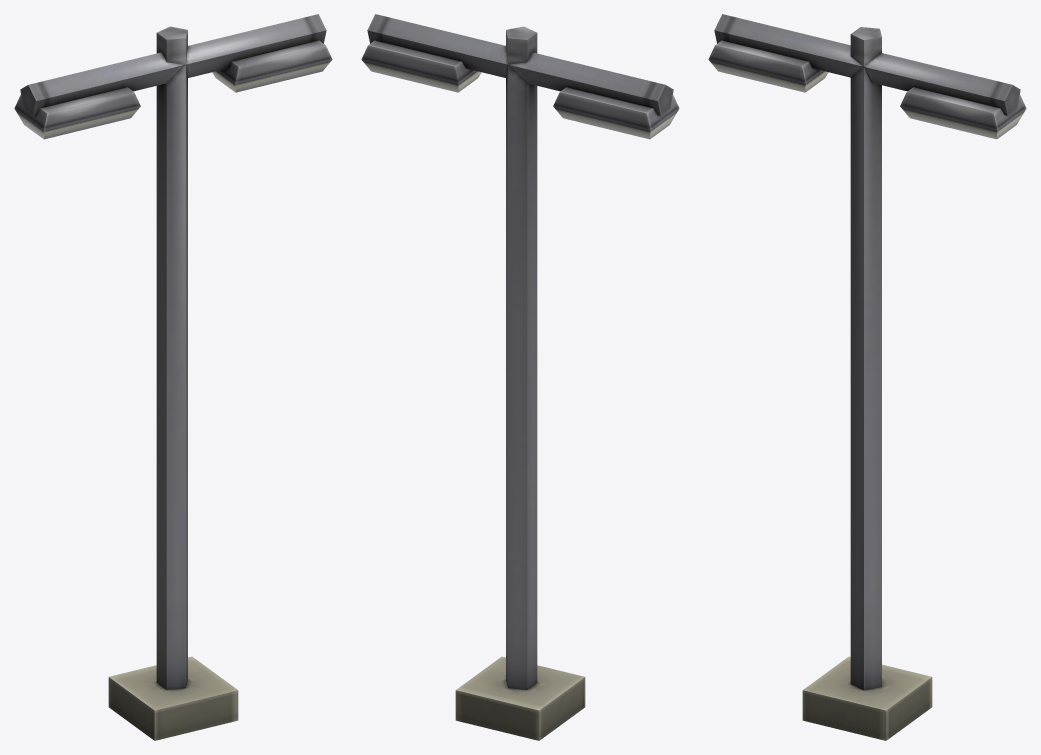
Rendered from LightingPole.FBX.
The picture shows the model from 3 angles, left to right: view 1: azimuth 30°, elevation 25°; view 2: azimuth 150°, elevation 25°; view 3: azimuth 330°, elevation 25°; orthographic projection.
Visible parts, largest first — view 1: Verlichtingspaal; view 2: Verlichtingspaal; view 3: Verlichtingspaal.
Boxes of the visible parts, left/top/right/bottom form: Verlichtingspaal: left=14, top=14, right=332, bottom=740; Verlichtingspaal: left=361, top=14, right=679, bottom=740; Verlichtingspaal: left=708, top=14, right=1026, bottom=740.
Bounding box in the file's own units: 100 × 224 × 27.48.
1 material, 1 textured.
